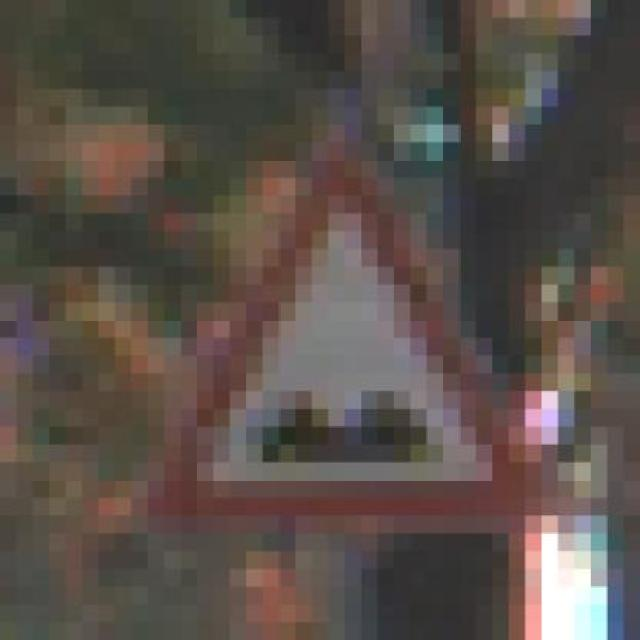Uneven Road: (164, 106, 558, 534)
